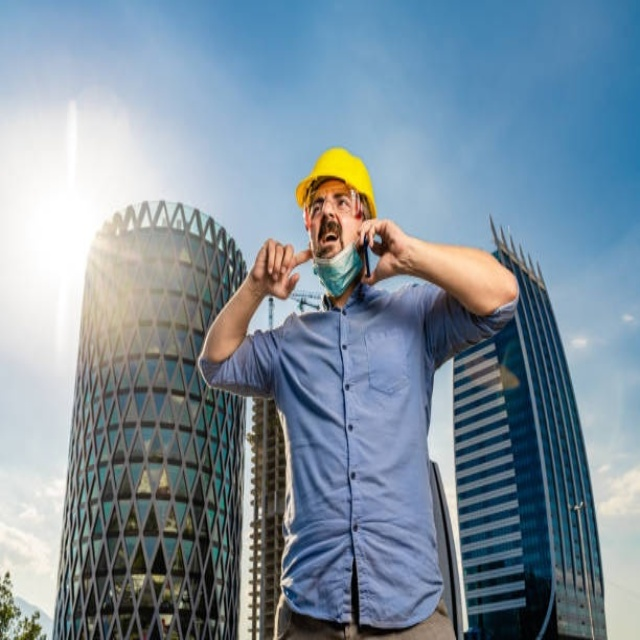Gafas: (307, 192, 361, 222)
Sin_guantes: (355, 216, 412, 285), (250, 237, 310, 301)
Sin_mascara: (314, 226, 341, 254)
